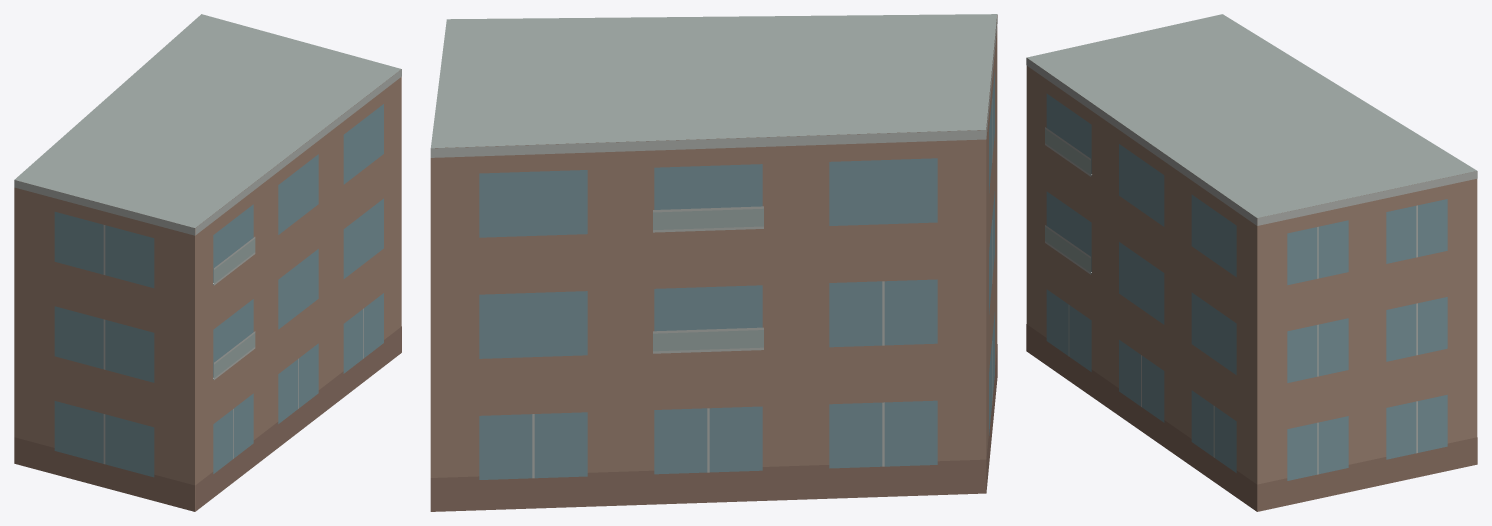
File: survey-upis-32691705.glb
3 renders of one model, left to right at view 1: azimuth 30°, elevation 25°; view 2: azimuth 150°, elevation 25°; view 3: azimuth 270°, elevation 25°, orthographic. The views are drawn at different scales.
Visible parts, largest first — view 1: survey-upis-32691705.tmp; view 2: survey-upis-32691705.tmp; view 3: survey-upis-32691705.tmp.
Boxes of the visible parts, x1,y1,x2,y2 form: survey-upis-32691705.tmp: [14, 14, 401, 511]; survey-upis-32691705.tmp: [430, 14, 997, 511]; survey-upis-32691705.tmp: [1026, 14, 1477, 511].
Size of the model in its own units: 13.65 by 9.15 by 12.74.
